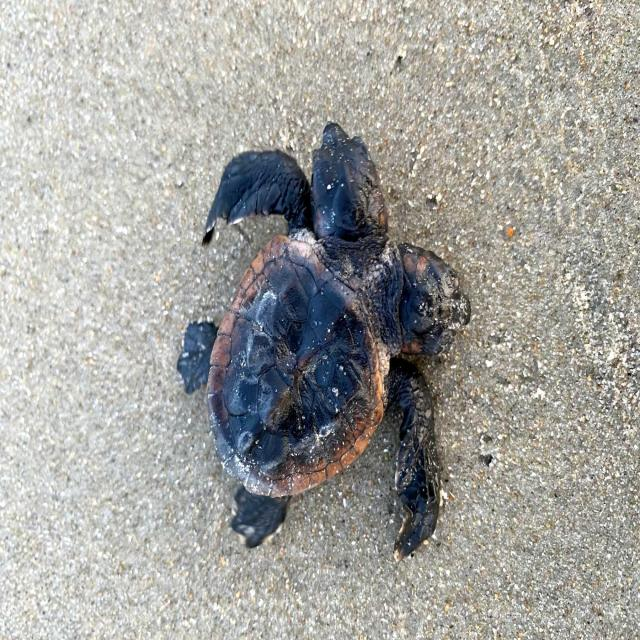turtle: (191, 133, 435, 558)
